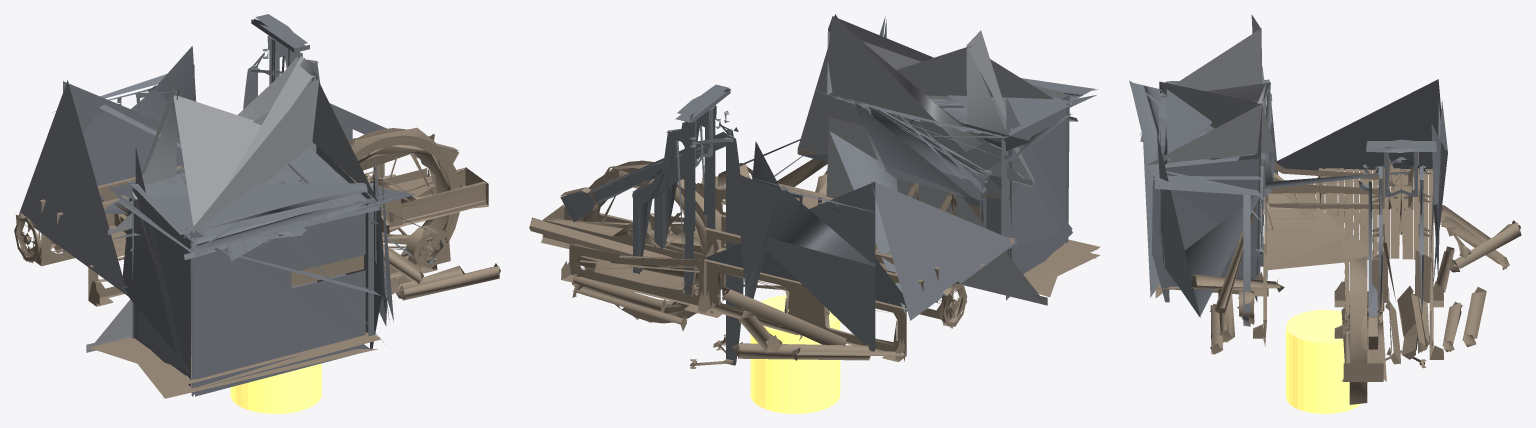
Rendered from sawmill.glb.
3 views of the same model, side by side, from view 1: azimuth 30°, elevation 25°; view 2: azimuth 150°, elevation 25°; view 3: azimuth 270°, elevation 25° (orthographic). The views are drawn at different scales.
Visible parts, largest first — view 1: sawmill_Building; view 2: sawmill_Building; view 3: sawmill_Building.
Boxes of the visible parts, x1=… form: sawmill_Building: x1=14, y1=14, x2=500, y2=413; sawmill_Building: x1=529, y1=14, x2=1100, y2=413; sawmill_Building: x1=1129, y1=14, x2=1521, y2=413.
Bounding box in the file's own units: 16.92 × 13.6 × 15.
